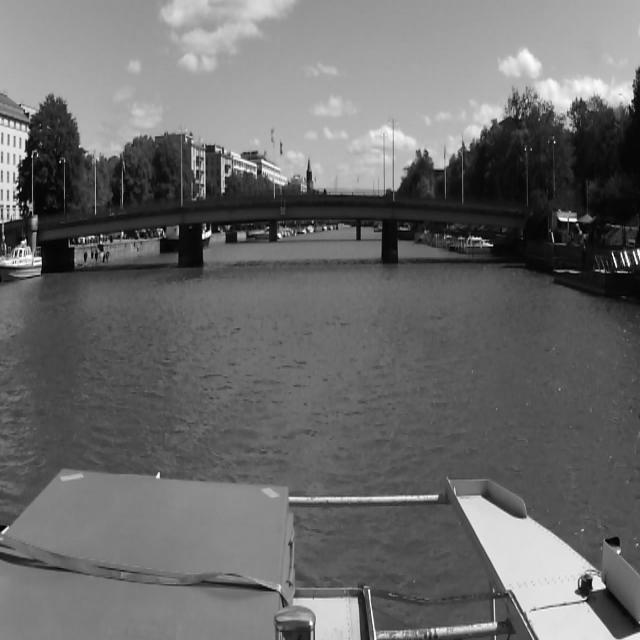ship: (0, 238, 47, 279), (467, 234, 493, 253)
